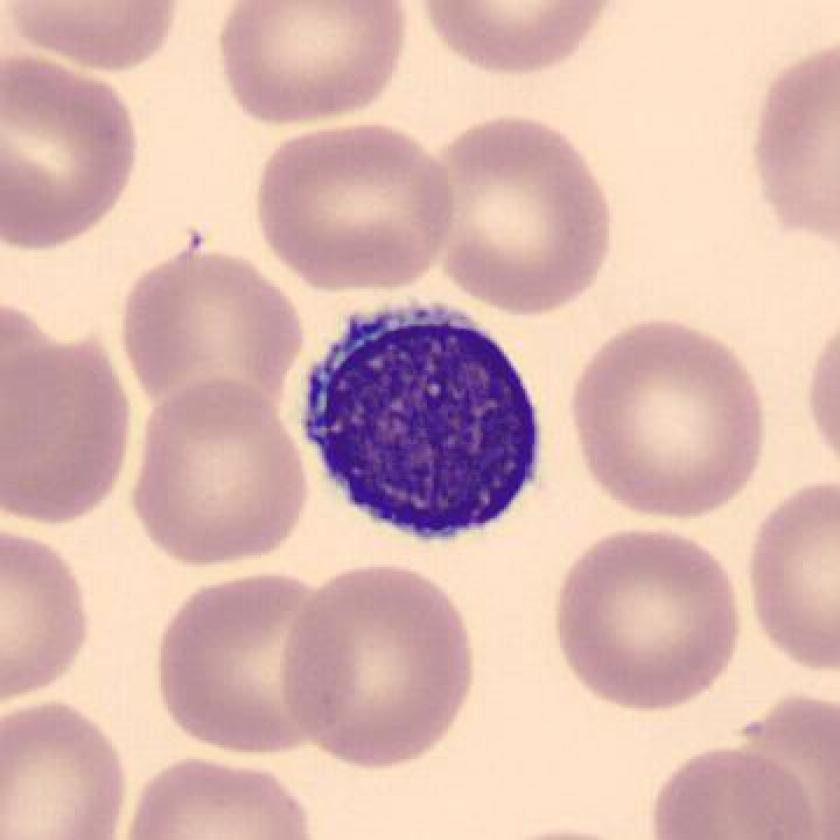lymphocyte: (290, 286, 559, 561)
